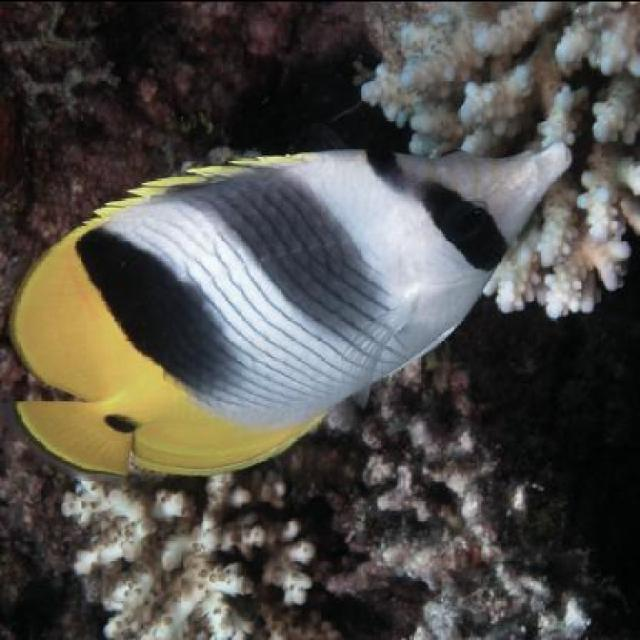ButterflyFish: (10, 139, 572, 478)
